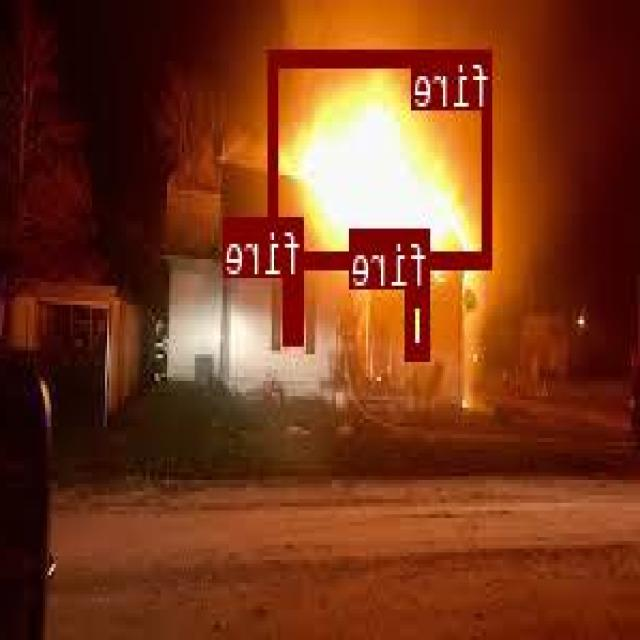fire: (271, 48, 493, 266), (408, 288, 431, 356), (286, 276, 305, 340)
